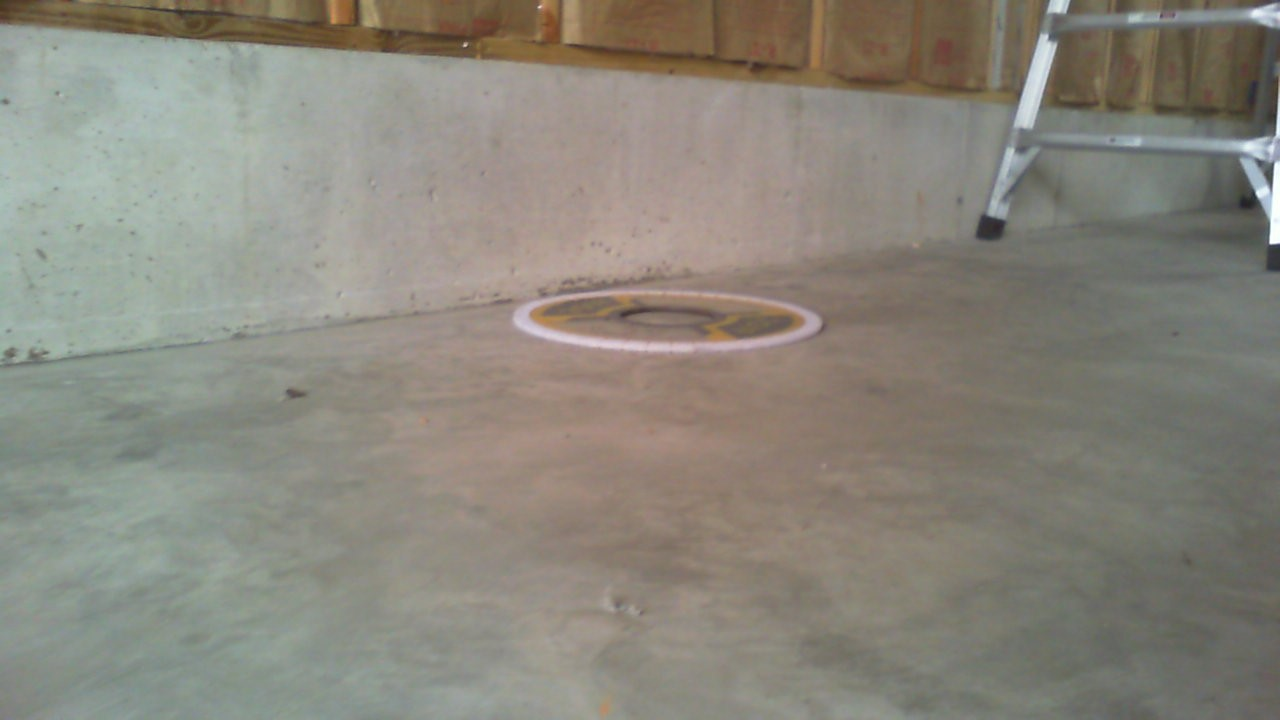Hatch: (512, 289, 823, 355)
